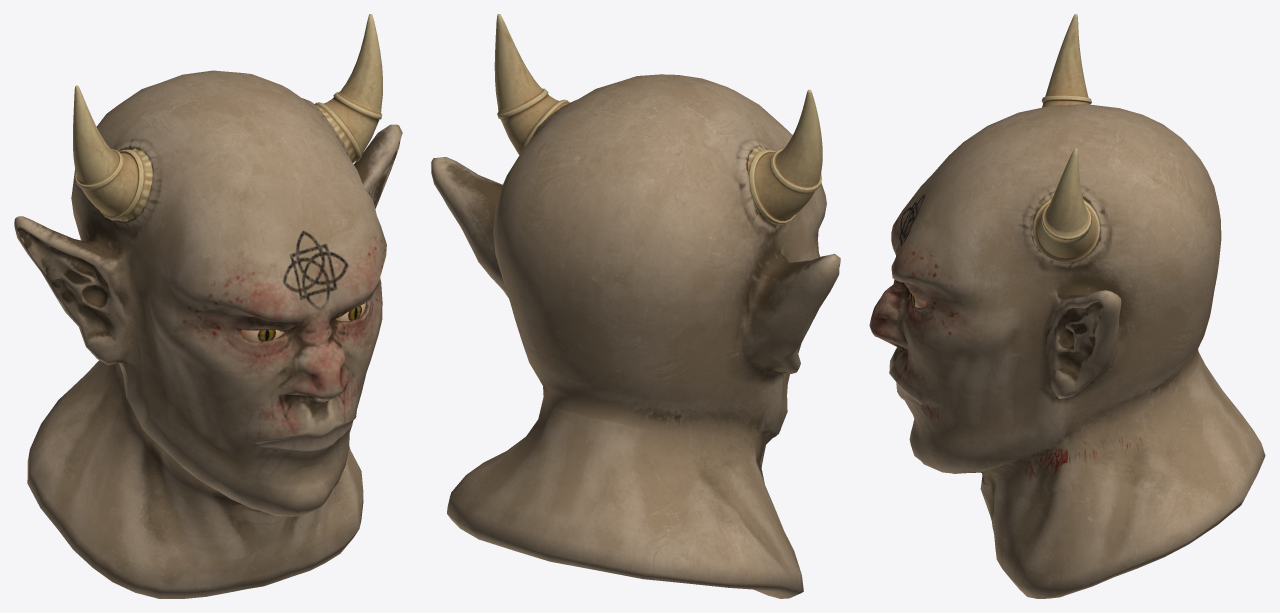
The model's file is horned-demon-bust.glb.
3 renders of one model, left to right at view 1: azimuth 30°, elevation 25°; view 2: azimuth 150°, elevation 25°; view 3: azimuth 270°, elevation 25°, orthographic. The views are drawn at different scales.
Visible parts, largest first — view 1: low_poly_head, eyes_low_poly; view 2: low_poly_head; view 3: low_poly_head.
Boxes of the visible parts, x1=… form: low_poly_head: x1=14, y1=14, x2=402, y2=598; eyes_low_poly: x1=241, y1=302, x2=365, y2=342; low_poly_head: x1=431, y1=14, x2=840, y2=598; low_poly_head: x1=869, y1=14, x2=1265, y2=598.
Bounding box in the file's own units: 1.84 × 2.34 × 1.76.
Materials: 2 (2 with a texture image).
